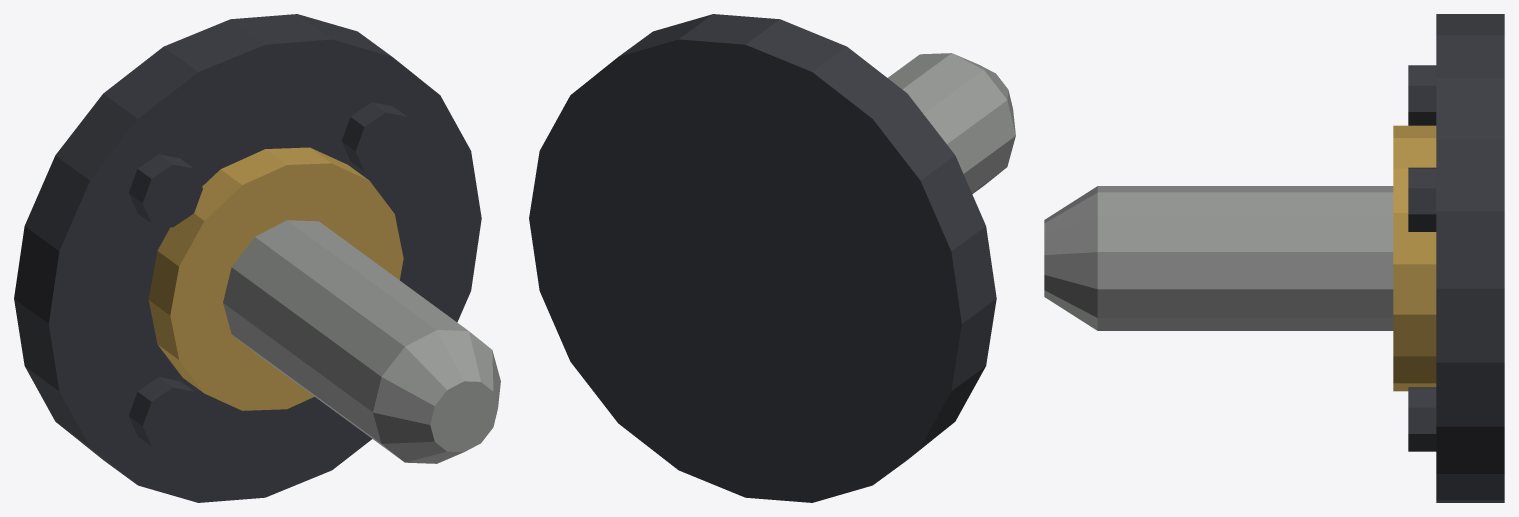
Rendered from gear_peg.fbx.
The picture shows the model from 3 angles, left to right: view 1: azimuth 30°, elevation 25°; view 2: azimuth 150°, elevation 25°; view 3: azimuth 270°, elevation 25°; orthographic projection.
Parts seen in each view (by area): view 1: Gear_Peg_Flange, Gear_Peg_Shaft, Gear_Peg_Collar; view 2: Gear_Peg_Flange, Gear_Peg_Shaft; view 3: Gear_Peg_Shaft, Gear_Peg_Flange, Gear_Peg_Collar.
Part boxes in pixels (left/top/right/bottom): Gear_Peg_Flange: left=14, top=14, right=481, bottom=502; Gear_Peg_Shaft: left=223, top=220, right=500, bottom=463; Gear_Peg_Collar: left=148, top=147, right=403, bottom=410; Gear_Peg_Flange: left=529, top=14, right=996, bottom=502; Gear_Peg_Shaft: left=888, top=53, right=1015, bottom=193; Gear_Peg_Shaft: left=1044, top=186, right=1393, bottom=330; Gear_Peg_Flange: left=1408, top=14, right=1504, bottom=502; Gear_Peg_Collar: left=1393, top=125, right=1436, bottom=391.
Bounding box in the file's own units: 23 × 23 × 21.5.
